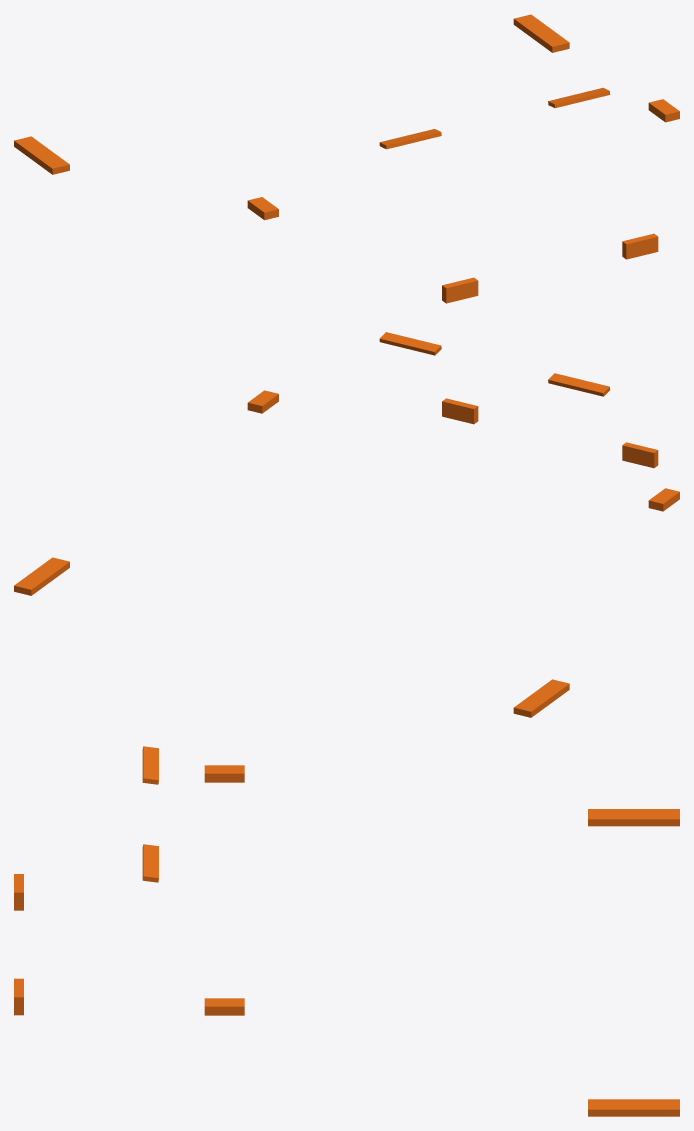
The model's file is light_tank_emissive_body.obj.
3 renders of one model, top to bottom at view 1: azimuth 30°, elevation 25°; view 2: azimuth 150°, elevation 25°; view 3: azimuth 270°, elevation 25°, orthographic. The views are drawn at different scales.
Parts seen in each view (by area): view 1: light_tank_emissive_body; view 2: light_tank_emissive_body; view 3: light_tank_emissive_body.
Boxes of the visible parts, <box> form: light_tank_emissive_body: <box>14,14,679,303</box>; light_tank_emissive_body: <box>14,332,679,717</box>; light_tank_emissive_body: <box>14,746,679,1116</box>.
Bounding box in the file's own units: 3.56 × 0.8579 × 3.34.
